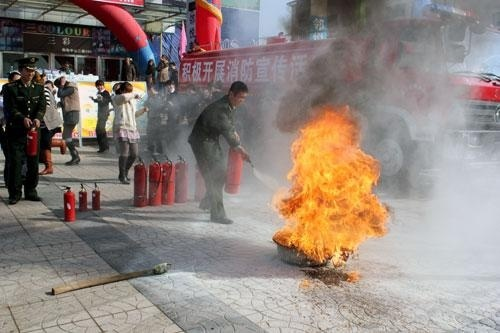fire: (273, 104, 388, 268), (296, 259, 363, 290)
